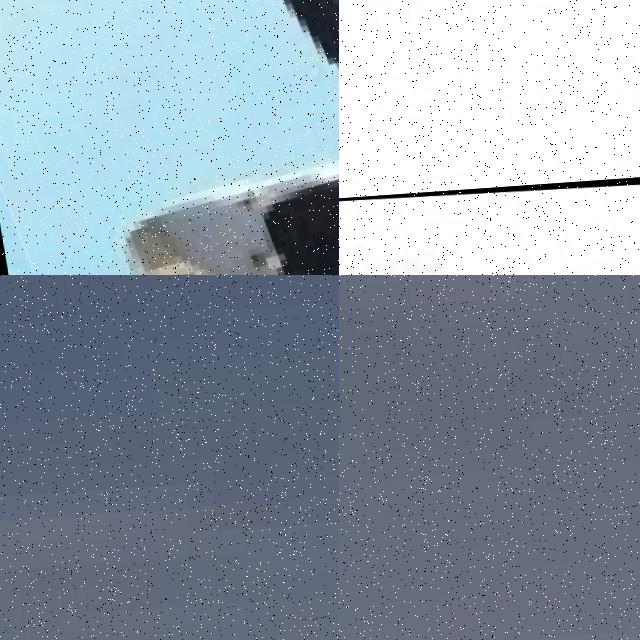drone: (0, 0, 339, 275), (339, 165, 640, 275)
